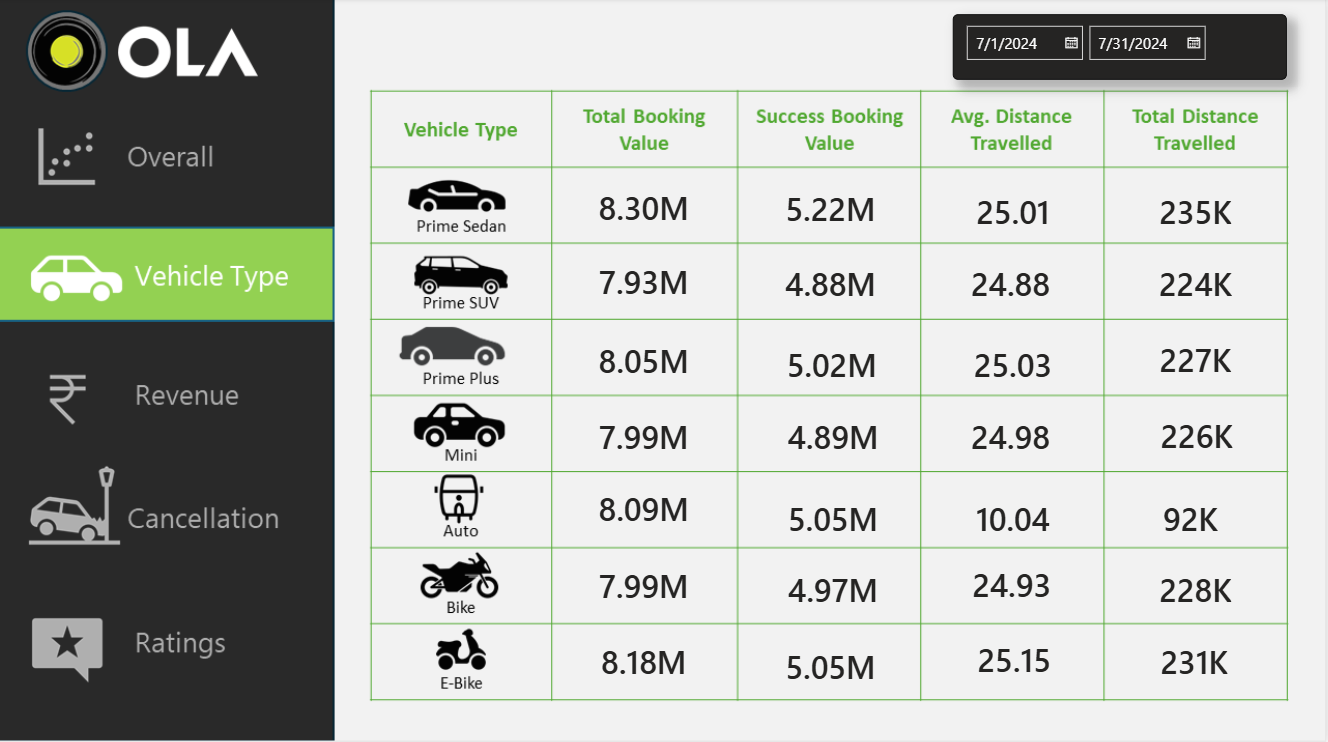

The dashboard page shown, as its layout file describes it:
{"tool":"powerbi","page":{"name":"Vehicle Type","canvas":[1280,720],"ordinal":1},"visuals":[{"type":"actionButton","box":[0,111,323.3,90.5],"z":0},{"type":"actionButton","box":[0,331.8,323.3,90.5],"z":1},{"type":"actionButton","box":[0,445.2,323.3,90.5],"z":2},{"type":"actionButton","box":[0,577.9,323.3,90.5],"z":3},{"type":"cardVisual","fields":{"Data":["Sum(July.Booking_Value)"]},"box":[529.7,166,185.2,70],"z":4},{"type":"cardVisual","fields":{"Data":["Sum(July.Booking_Value)"]},"box":[529.7,236,185.2,72.7],"z":5},{"type":"cardVisual","fields":{"Data":["Sum(July.Booking_Value)"]},"box":[529.7,308.7,185.2,78.2],"z":6},{"type":"cardVisual","fields":{"Data":["Sum(July.Booking_Value)"]},"box":[529.7,599.7,185.2,79.6],"z":7},{"type":"cardVisual","fields":{"Data":["Sum(July.Booking_Value)"]},"box":[529.7,525.6,185.2,78.2],"z":8},{"type":"cardVisual","fields":{"Data":["Sum(July.Booking_Value)"]},"box":[529.7,387,185.2,70],"z":9},{"type":"cardVisual","fields":{"Data":["Sum(July.Booking_Value)"]},"box":[529.7,456.9,185.2,68.6],"z":10},{"type":"cardVisual","fields":{"Data":["Sum(July.Booking_Value)"]},"box":[714.9,167.4,174.3,68.6],"z":11},{"type":"cardVisual","fields":{"Data":["Sum(July.Booking_Value)"]},"box":[714.9,240.1,174.3,68.6],"z":12},{"type":"cardVisual","fields":{"Data":["Sum(July.Booking_Value)"]},"box":[716.3,318.4,174.3,68.6],"z":13},{"type":"cardVisual","fields":{"Data":["Sum(July.Booking_Value)"]},"box":[717.7,388.3,174.3,68.6],"z":14},{"type":"cardVisual","fields":{"Data":["Sum(July.Booking_Value)"]},"box":[717.7,466.6,174.3,68.6],"z":15},{"type":"cardVisual","fields":{"Data":["Sum(July.Booking_Value)"]},"box":[717.7,535.2,174.3,68.6],"z":16},{"type":"cardVisual","fields":{"Data":["Sum(July.Booking_Value)"]},"box":[714.9,610.6,174.3,68.6],"z":17},{"type":"cardVisual","fields":{"Data":["Avg(July.Ride_Distance)"]},"box":[891.9,171.5,174.3,68.6],"z":18},{"type":"cardVisual","fields":{"Data":["Avg(July.Ride_Distance)"]},"box":[889.2,240.1,174.3,68.6],"z":19},{"type":"cardVisual","fields":{"Data":["Avg(July.Ride_Distance)"]},"box":[891.9,318.4,174.3,68.6],"z":20},{"type":"cardVisual","fields":{"Data":["Avg(July.Ride_Distance)"]},"box":[889.2,388.3,174.3,68.6],"z":21},{"type":"cardVisual","fields":{"Data":["Avg(July.Ride_Distance)"]},"box":[891.9,466.6,174.3,68.6],"z":22},{"type":"cardVisual","fields":{"Data":["Avg(July.Ride_Distance)"]},"box":[890.6,531,174.3,68.6],"z":23},{"type":"cardVisual","fields":{"Data":["Avg(July.Ride_Distance)"]},"box":[893.3,603.8,174.3,68.6],"z":24},{"type":"cardVisual","fields":{"Data":["Sum(July.Ride_Distance)"]},"box":[1067.6,171.5,174.3,68.6],"z":25},{"type":"cardVisual","fields":{"Data":["Sum(July.Ride_Distance)"]},"box":[1067.6,240.1,174.3,68.6],"z":26},{"type":"cardVisual","fields":{"Data":["Sum(July.Ride_Distance)"]},"box":[1067.6,314.2,174.3,68.6],"z":27},{"type":"cardVisual","fields":{"Data":["Sum(July.Ride_Distance)"]},"box":[1069,387,174.3,68.6],"z":28},{"type":"cardVisual","fields":{"Data":["Sum(July.Ride_Distance)"]},"box":[1063.5,466.6,174.3,68.6],"z":29},{"type":"cardVisual","fields":{"Data":["Sum(July.Ride_Distance)"]},"box":[1067.6,535.2,174.3,68.6],"z":30},{"type":"cardVisual","fields":{"Data":["Sum(July.Ride_Distance)"]},"box":[1066.2,605.1,174.3,68.6],"z":31},{"type":"slicer","title":"Date","fields":{"Values":["July.Date"]},"box":[920.8,15.1,322.5,63.1],"z":32}]}

Visuals, with their boxes on the page's 1280x720 design canvas (x1, y1, x2, y2). These are canvas units, not pixel positions in the 1328x742 screenshot, which may show the page scaled, cropped or inside an application window:
actionButton: locate(0, 111, 323, 202)
actionButton: locate(0, 332, 323, 422)
actionButton: locate(0, 445, 323, 536)
actionButton: locate(0, 578, 323, 668)
cardVisual - Sum(July.Booking_Value): locate(530, 166, 715, 236)
cardVisual - Sum(July.Booking_Value): locate(530, 236, 715, 309)
cardVisual - Sum(July.Booking_Value): locate(530, 309, 715, 387)
cardVisual - Sum(July.Booking_Value): locate(530, 600, 715, 679)
cardVisual - Sum(July.Booking_Value): locate(530, 526, 715, 604)
cardVisual - Sum(July.Booking_Value): locate(530, 387, 715, 457)
cardVisual - Sum(July.Booking_Value): locate(530, 457, 715, 526)
cardVisual - Sum(July.Booking_Value): locate(715, 167, 889, 236)
cardVisual - Sum(July.Booking_Value): locate(715, 240, 889, 309)
cardVisual - Sum(July.Booking_Value): locate(716, 318, 891, 387)
cardVisual - Sum(July.Booking_Value): locate(718, 388, 892, 457)
cardVisual - Sum(July.Booking_Value): locate(718, 467, 892, 535)
cardVisual - Sum(July.Booking_Value): locate(718, 535, 892, 604)
cardVisual - Sum(July.Booking_Value): locate(715, 611, 889, 679)
cardVisual - Avg(July.Ride_Distance): locate(892, 172, 1066, 240)
cardVisual - Avg(July.Ride_Distance): locate(889, 240, 1064, 309)
cardVisual - Avg(July.Ride_Distance): locate(892, 318, 1066, 387)
cardVisual - Avg(July.Ride_Distance): locate(889, 388, 1064, 457)
cardVisual - Avg(July.Ride_Distance): locate(892, 467, 1066, 535)
cardVisual - Avg(July.Ride_Distance): locate(891, 531, 1065, 600)
cardVisual - Avg(July.Ride_Distance): locate(893, 604, 1068, 672)
cardVisual - Sum(July.Ride_Distance): locate(1068, 172, 1242, 240)
cardVisual - Sum(July.Ride_Distance): locate(1068, 240, 1242, 309)
cardVisual - Sum(July.Ride_Distance): locate(1068, 314, 1242, 383)
cardVisual - Sum(July.Ride_Distance): locate(1069, 387, 1243, 456)
cardVisual - Sum(July.Ride_Distance): locate(1064, 467, 1238, 535)
cardVisual - Sum(July.Ride_Distance): locate(1068, 535, 1242, 604)
cardVisual - Sum(July.Ride_Distance): locate(1066, 605, 1240, 674)
"Date" slicer: locate(921, 15, 1243, 78)
